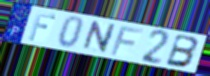0: (55, 15, 87, 50)
2: (138, 28, 171, 67)
B: (164, 33, 201, 69)
F: (109, 25, 146, 57), (26, 11, 58, 42)
N: (80, 20, 118, 55)
